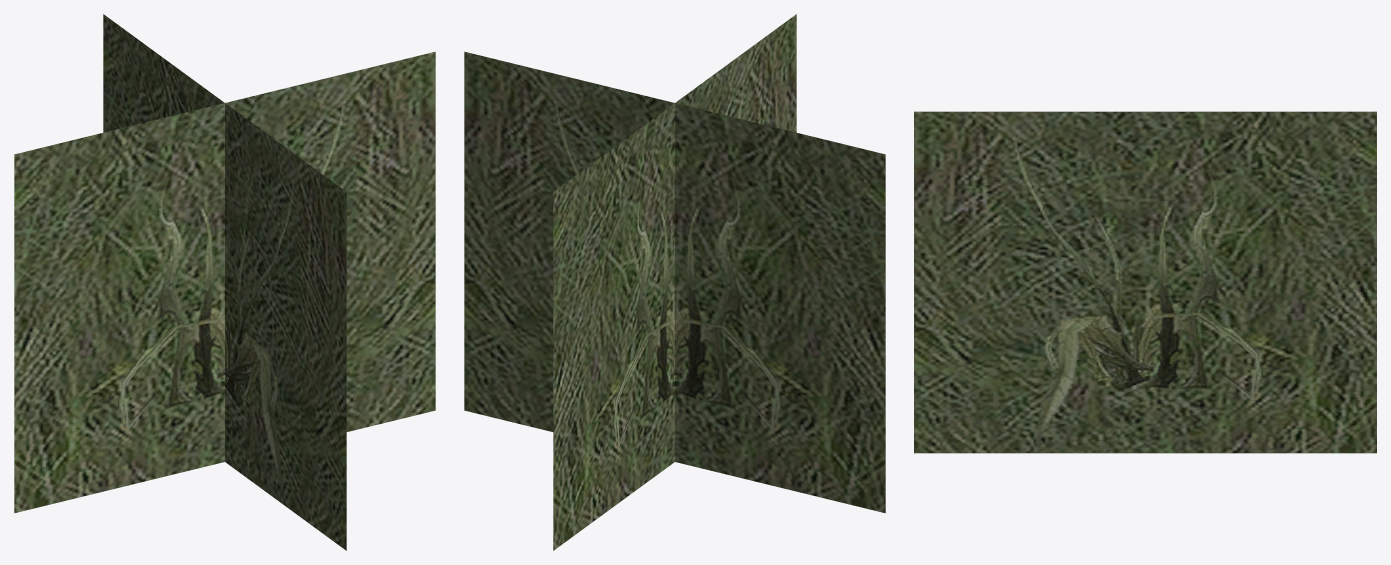
File: core_leaf_razorgrass_mtns_a1_l2.fbx
3 views of the same model, side by side, from view 1: azimuth 30°, elevation 25°; view 2: azimuth 150°, elevation 25°; view 3: azimuth 270°, elevation 25° (orthographic). The views are drawn at different scales.
Visible parts, largest first — view 1: mesh_node; view 2: mesh_node; view 3: mesh_node.
Boxes of the visible parts, x1,y1,x2,y2 form: mesh_node: [14, 14, 435, 550]; mesh_node: [464, 14, 885, 550]; mesh_node: [914, 111, 1376, 453].
Size of the model in its own units: 2.18 by 1.78 by 2.18.
